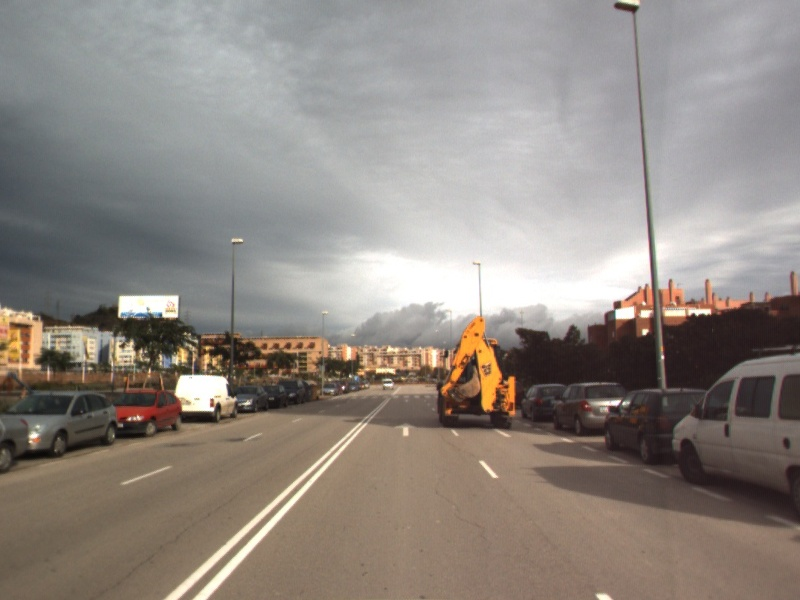STRAIGHT: (392, 421, 420, 438)
